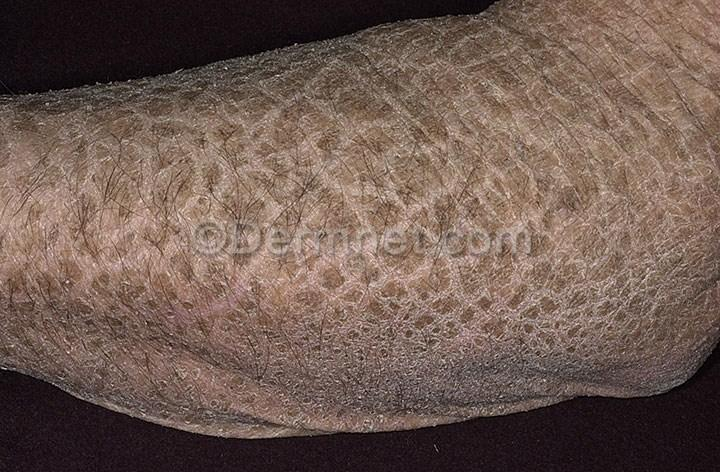liquenificacion 3: (0, 2, 719, 435)
xerosis 3: (0, 1, 719, 434)
